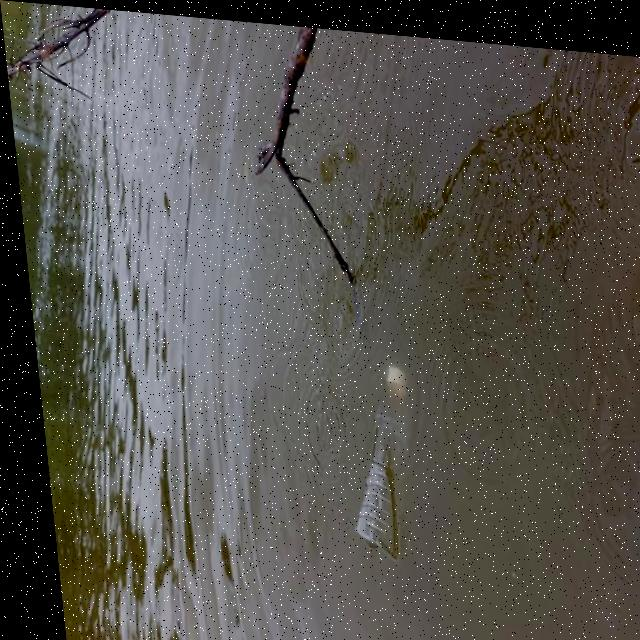waterbottle: (327, 334, 440, 577)
